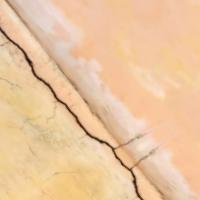crack: (0, 20, 148, 199)
